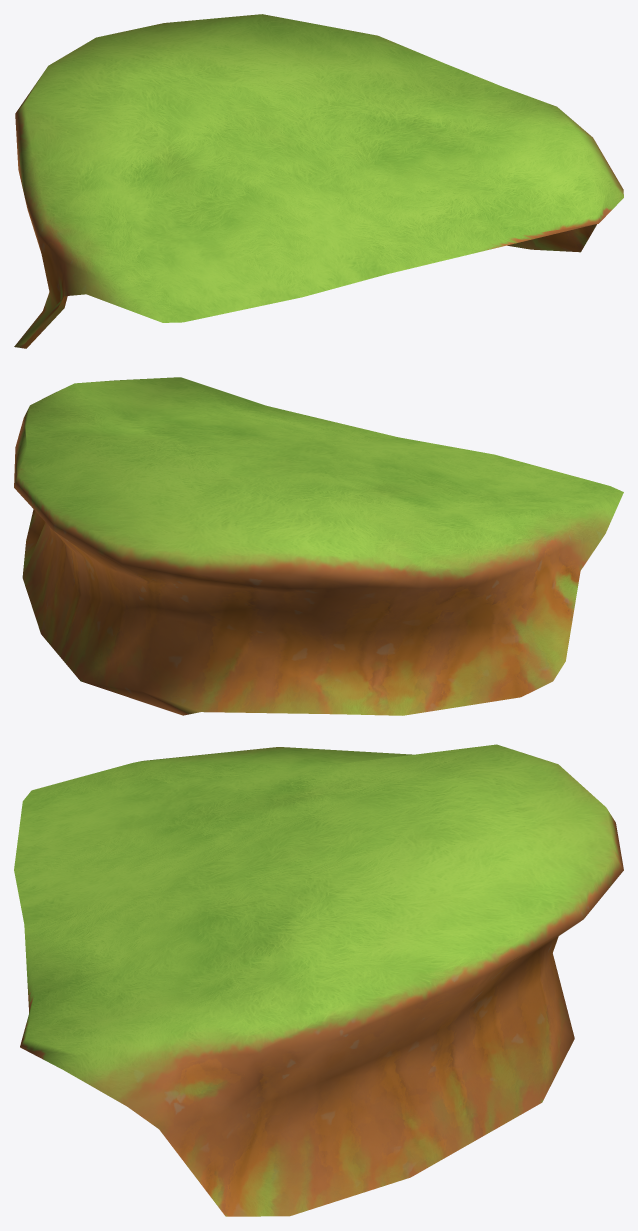
The model's file is ENV0110004.FBX.
3 renders of one model, top to bottom at view 1: azimuth 30°, elevation 25°; view 2: azimuth 150°, elevation 25°; view 3: azimuth 270°, elevation 25°, orthographic. The views are drawn at different scales.
Visible parts, largest first — view 1: smENV0110004; view 2: smENV0110004; view 3: smENV0110004.
Boxes of the visible parts, bbox=[...] form: smENV0110004: bbox=[14, 14, 623, 348]; smENV0110004: bbox=[14, 377, 623, 715]; smENV0110004: bbox=[14, 744, 623, 1216].
Bounding box in the file's own units: 38.15 × 13.43 × 30.65.
1 material, 1 textured.
